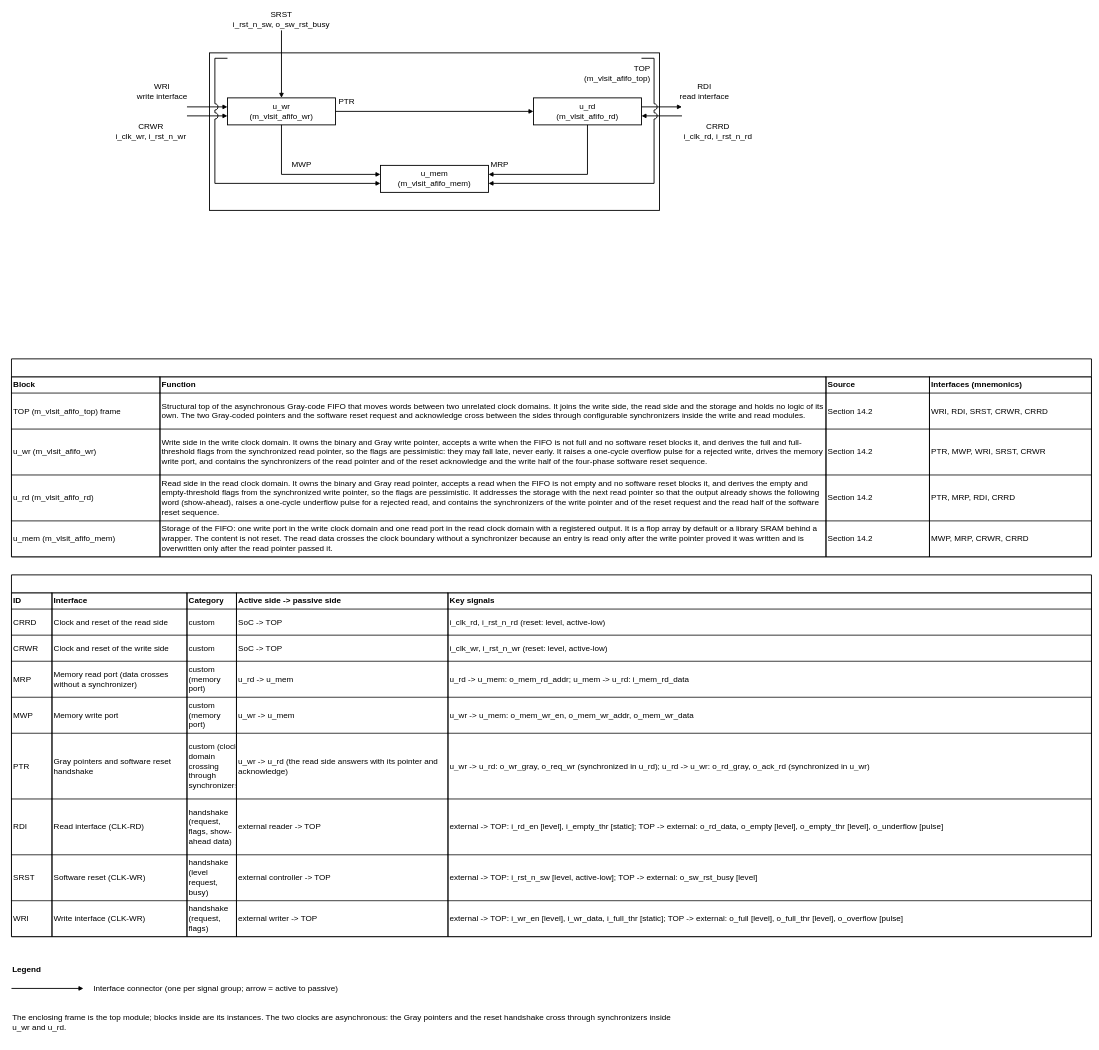
The diagram is 1099 pixels wide and 1050 high, and some of its shapes have lost their labels. Each missing label, with the box of its shape:
Block Functions & Interfaces: (11, 358, 1092, 557)
Interface Table: (11, 574, 1092, 937)
